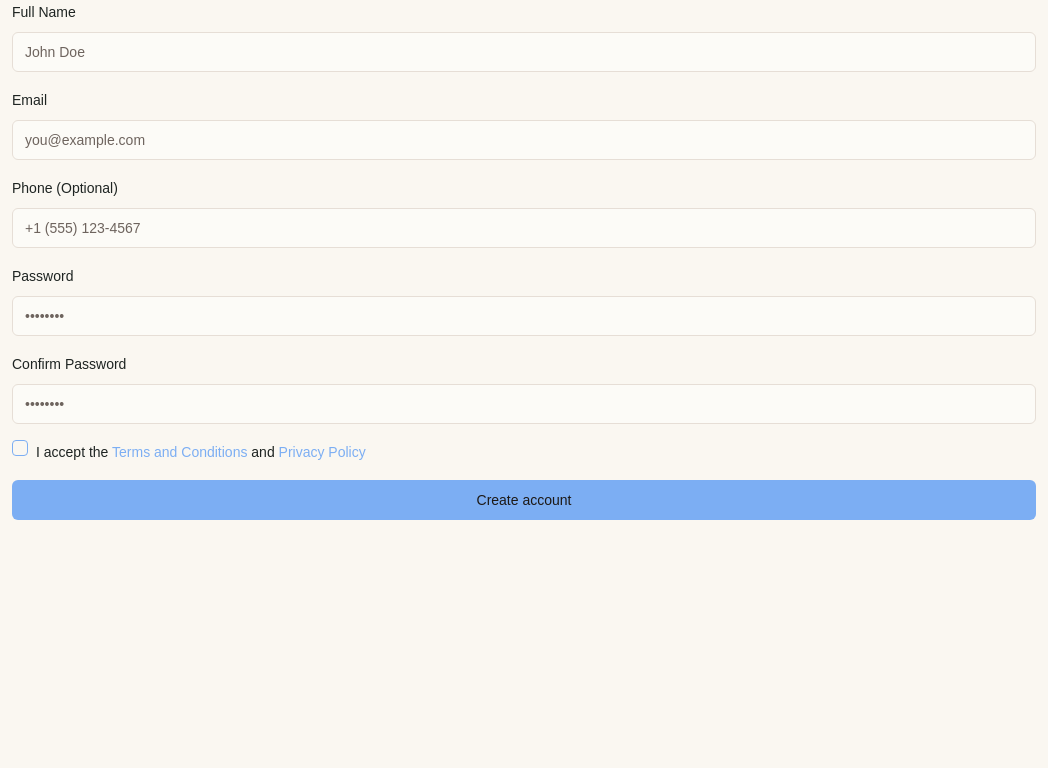
RegisterForm › shows password strength indicator
Type "Weak1" into the password field labelled "Password" at (524, 316), box top-left (12, 296), bottom-right (1036, 336)
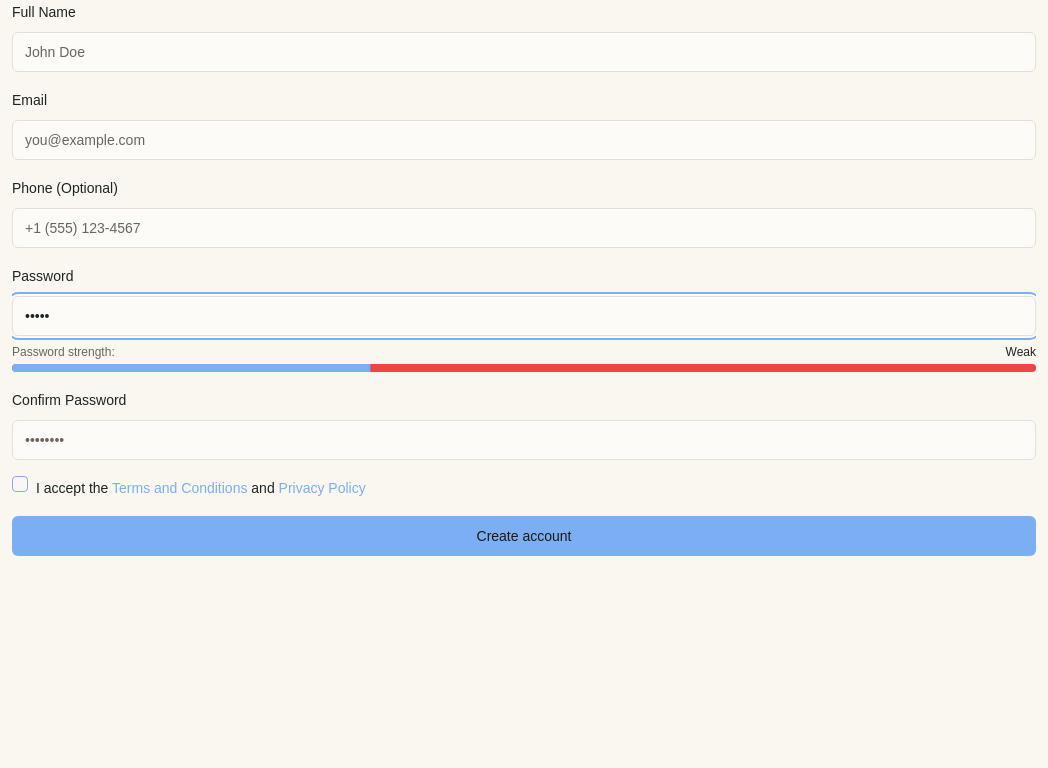
Expected: the text "Password strength:" is shown, top-left (12, 344), bottom-right (115, 360)
